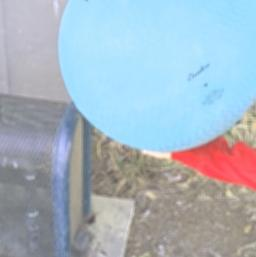algae: (49, 0, 256, 158)
